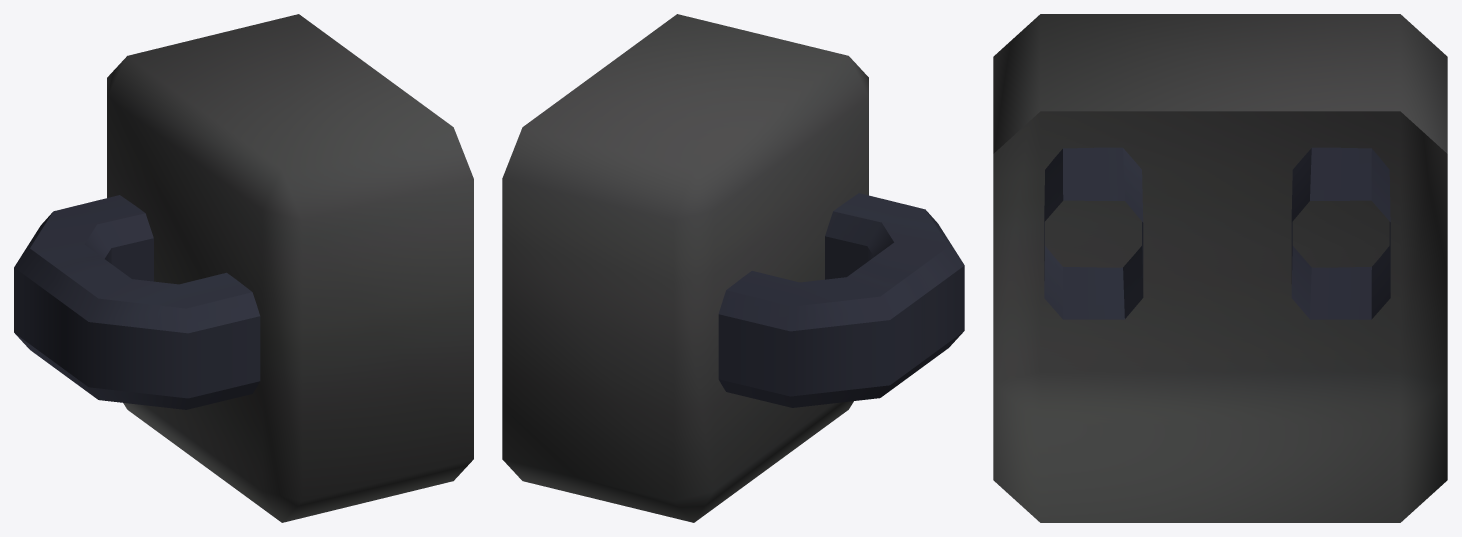
File: ChainCube_3.obj
3 renders of one model, left to right at view 1: azimuth 30°, elevation 25°; view 2: azimuth 150°, elevation 25°; view 3: azimuth 270°, elevation 25°, orthographic. The views are drawn at different scales.
Visible parts, largest first — view 1: ChainCube_3; view 2: ChainCube_3; view 3: ChainCube_3.
Part boxes in pixels (bbox=[...]): ChainCube_3: bbox=[14, 14, 473, 522]; ChainCube_3: bbox=[502, 14, 964, 522]; ChainCube_3: bbox=[993, 14, 1447, 522].
Bounding box in the file's own units: 0.167 × 0.1731 × 0.1731.
